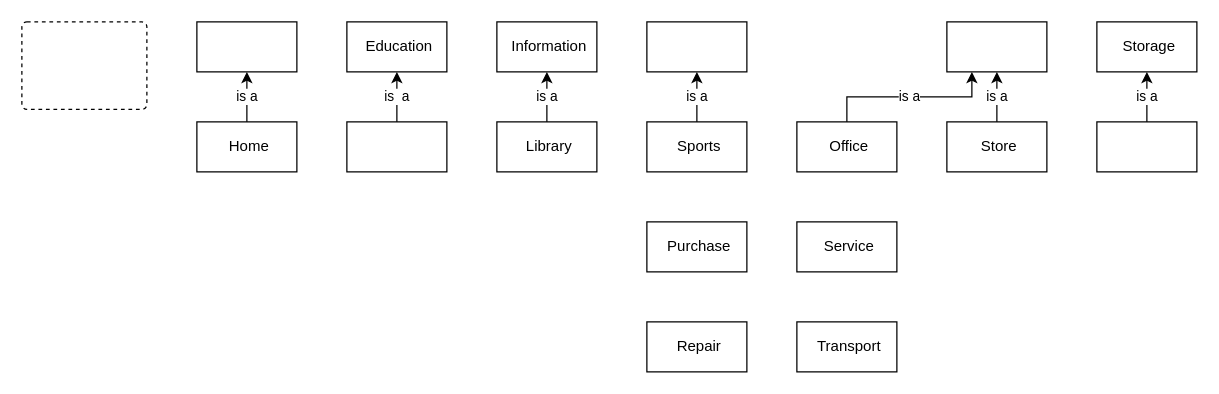
This 1219x394 diagram has some shape labels left out. The centre of each missing label's shape, as x and y in pixels:
"Dwelling" belongs at pixel 246 46.
"Exchange" belongs at pixel 996 46.
"School" belongs at pixel 396 146.
"Text" belongs at pixel 84 65.
"Training" belongs at pixel 696 46.
"Warehouse" belongs at pixel 1146 146.
